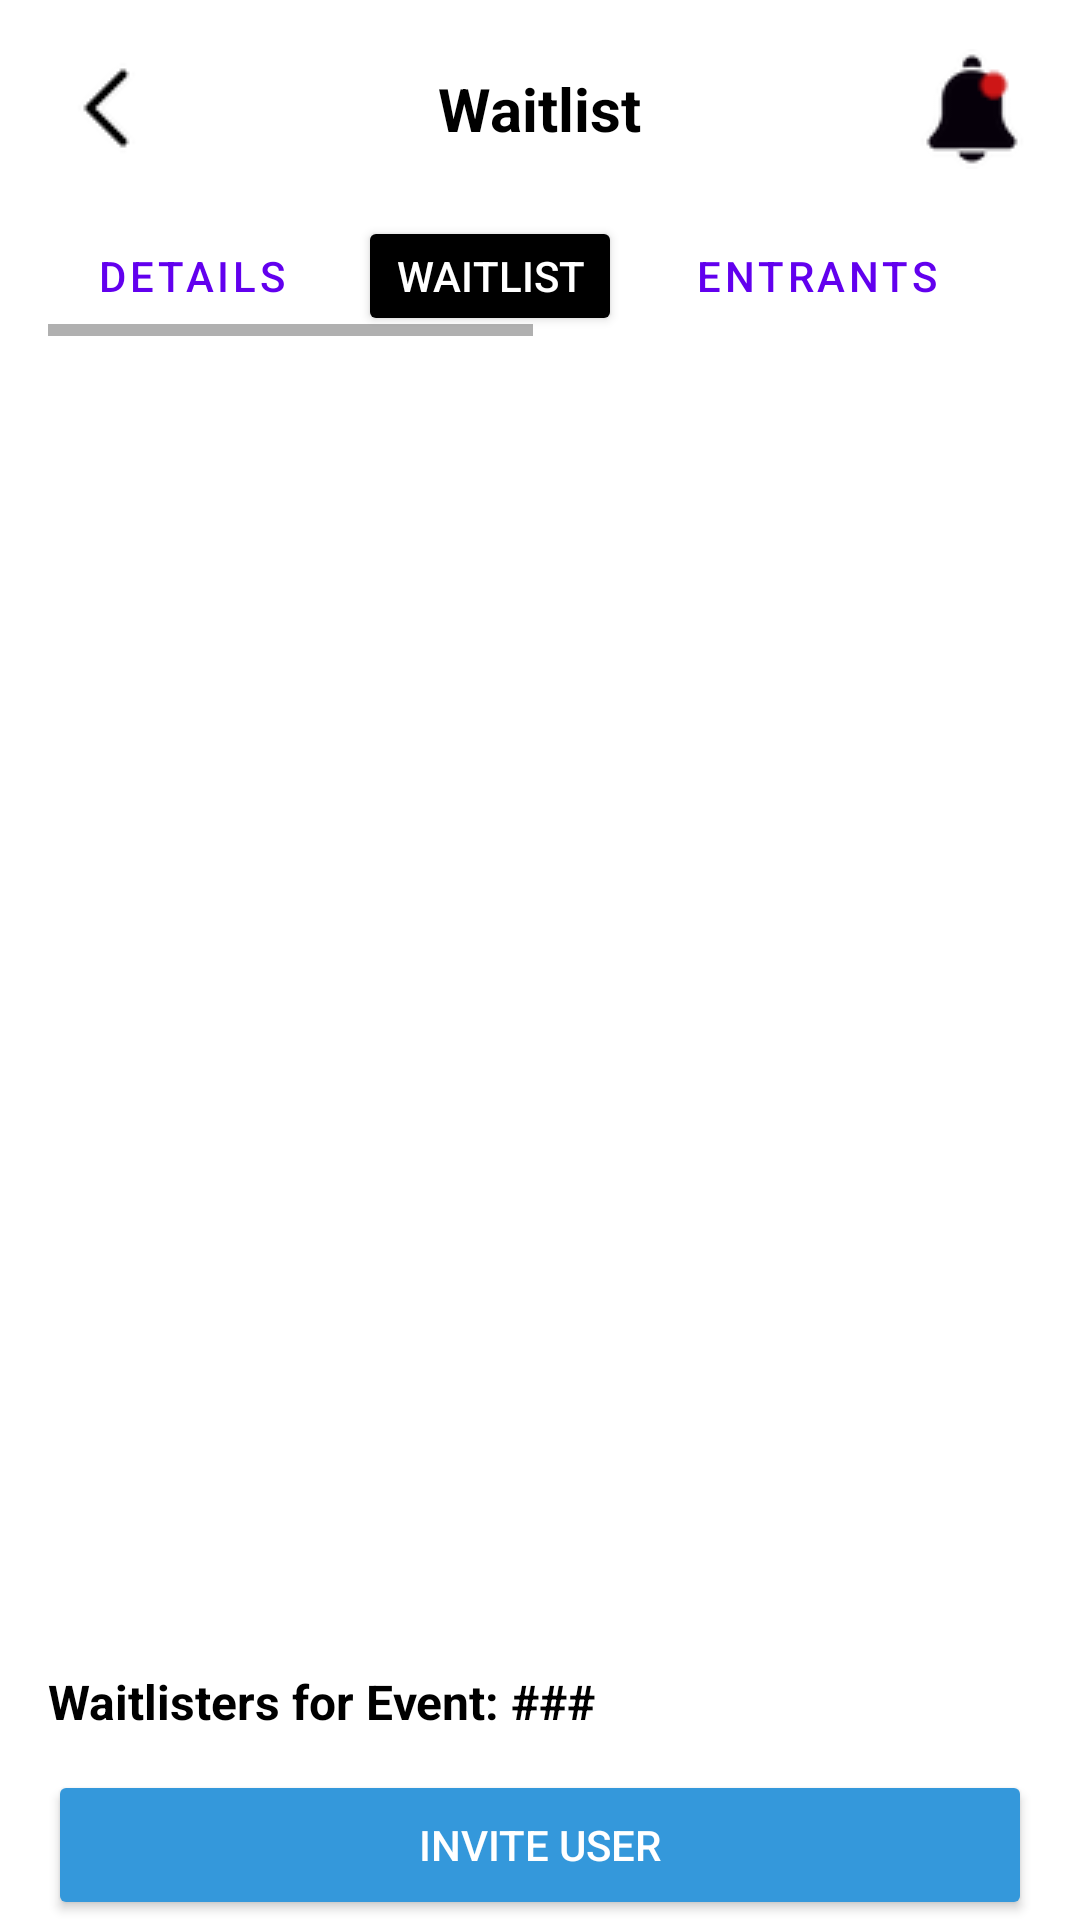

Named icons in this screenshot (1080px×1920px) and their bounding boxes, (x1, y1, x2, y2):
left arrow: (83, 68, 130, 148)
notification popular: (926, 54, 1018, 164)
